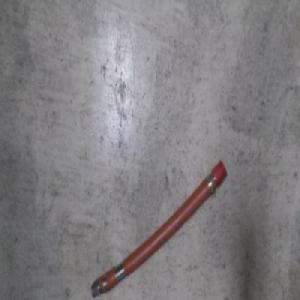Hose: (89, 155, 228, 299)
